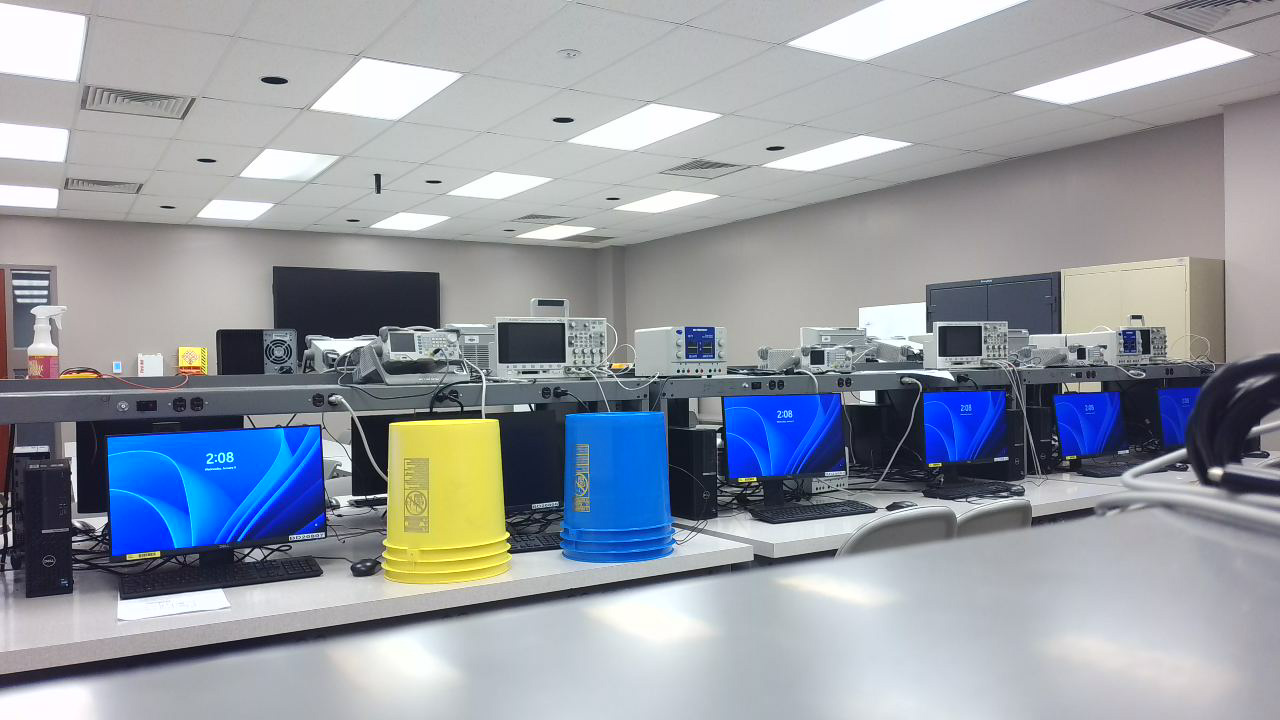blue_bucket: (559, 413, 686, 572)
yellow_bucket: (381, 419, 522, 594)
